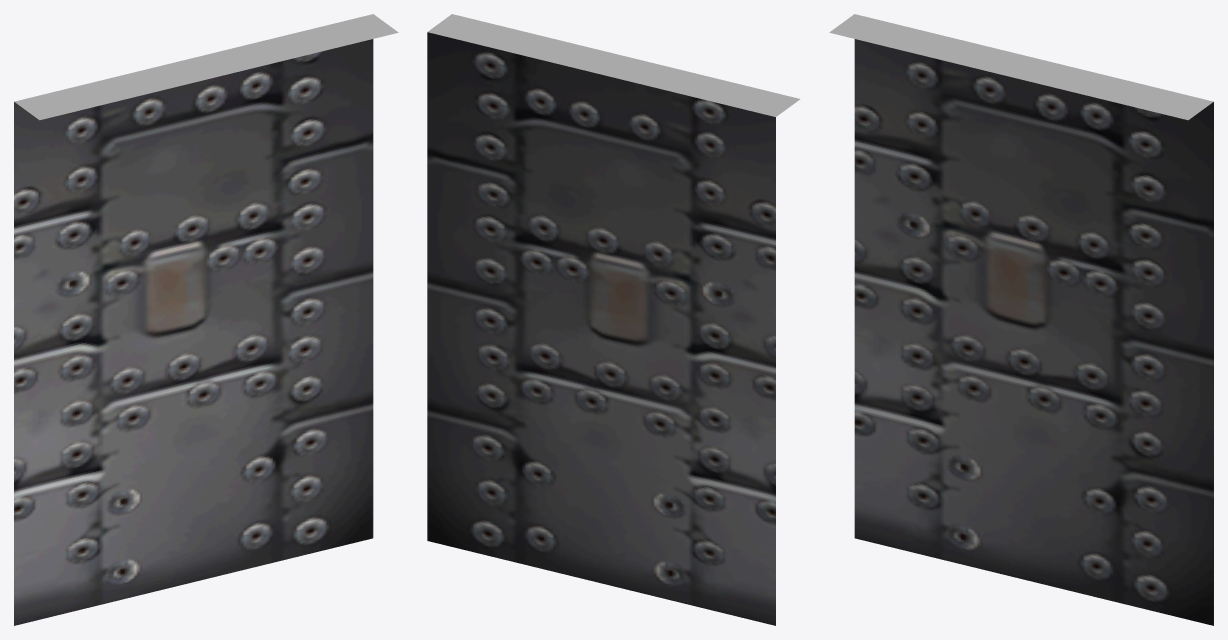
The model's file is W_I3_x [Gepanzert]_143.glb.
3 views of the same model, side by side, from view 1: azimuth 30°, elevation 25°; view 2: azimuth 150°, elevation 25°; view 3: azimuth 330°, elevation 25° (orthographic). The views are drawn at different scales.
Visible parts, largest first — view 1: pPlaneShape3, pPlaneShape1; view 2: pPlaneShape3, pPlaneShape1; view 3: pPlaneShape3, pPlaneShape1.
Part boxes in pixels (bbox=[...]): pPlaneShape3: bbox=[14, 39, 373, 625]; pPlaneShape1: bbox=[14, 14, 398, 120]; pPlaneShape3: bbox=[427, 32, 775, 625]; pPlaneShape1: bbox=[427, 14, 800, 116]; pPlaneShape3: bbox=[854, 39, 1213, 625]; pPlaneShape1: bbox=[829, 14, 1213, 120].
Bounding box in the file's own units: 0.25 × 0.3486 × 0.0308.
2 materials, 1 textured.
